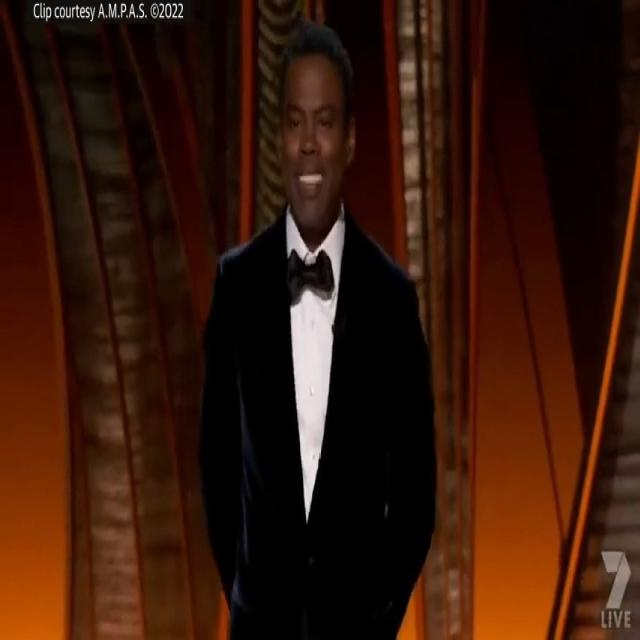non-fight: (183, 1, 450, 640)
